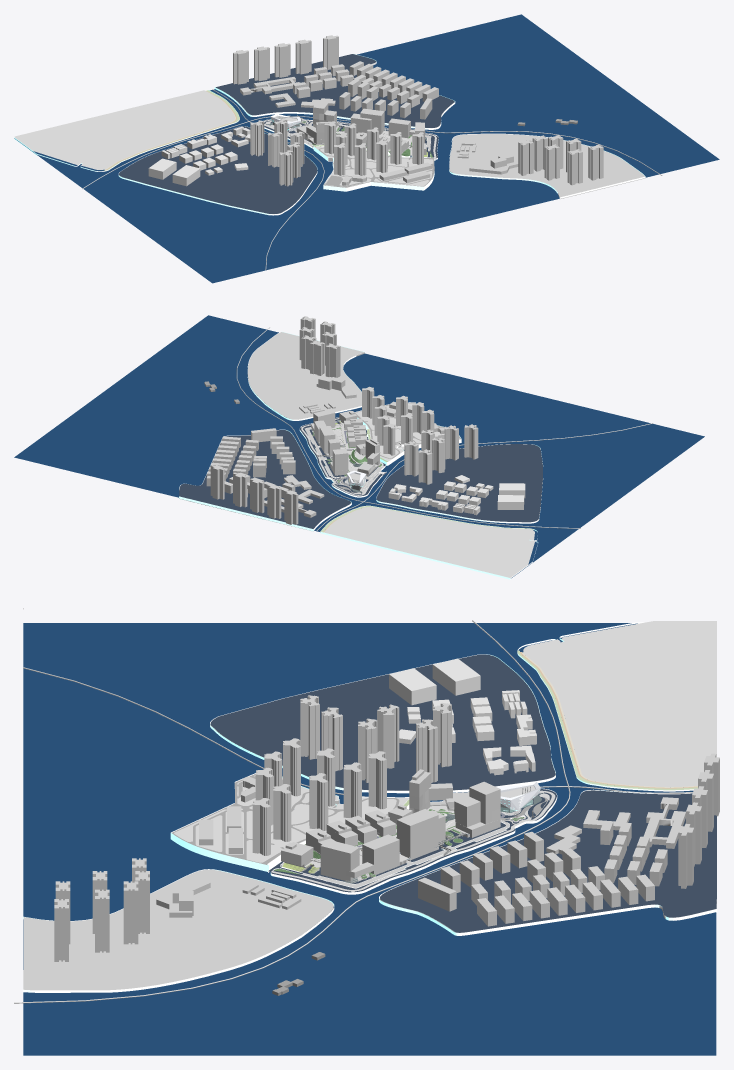
3 renders of one model, top to bottom at view 1: azimuth 30°, elevation 25°; view 2: azimuth 150°, elevation 25°; view 3: azimuth 270°, elevation 25°, orthographic. The views are drawn at different scales.
Visible parts, largest first — view 1: ground, building-outside, reflect-plane-5.001, reflect-plane-3, reflect-plane-4, reflect-plane-1, building-inside, Group9, Group2, road-light, light-border.004, light-border.005 (+2 smaller); view 2: ground, building-outside, reflect-plane-5.001, reflect-plane-3, reflect-plane-4, reflect-plane-1, building-inside, Group9, light-border.001, reflect-plane, Group2, light-border.003 (+1 smaller); view 3: ground, building-outside, reflect-plane-5.001, reflect-plane-4, reflect-plane-3, reflect-plane-1, building-inside, Group9, reflect-plane, Group2, light-border.003, road-light (+6 smaller).
Part boxes in pixels (x1=…): ground: x1=14, y1=14, x2=719, y2=283; building-outside: x1=148, y1=35, x2=603, y2=186; reflect-plane-5.001: x1=14, y1=90, x2=234, y2=169; reflect-plane-3: x1=119, y1=126, x2=317, y2=213; reflect-plane-4: x1=449, y1=134, x2=644, y2=197; reflect-plane-1: x1=216, y1=54, x2=454, y2=127; building-inside: x1=296, y1=101, x2=426, y2=154; Group9: x1=313, y1=145, x2=434, y2=187; Group2: x1=15, y1=90, x2=239, y2=170; road-light: x1=82, y1=115, x2=662, y2=189; light-border.004: x1=313, y1=145, x2=434, y2=191; light-border.005: x1=449, y1=133, x2=645, y2=198; ground: x1=14, y1=315, x2=704, y2=578; building-outside: x1=206, y1=316, x2=525, y2=524; reflect-plane-5.001: x1=325, y1=507, x2=534, y2=577; reflect-plane-3: x1=376, y1=444, x2=542, y2=522; reflect-plane-4: x1=247, y1=332, x2=364, y2=419; reflect-plane-1: x1=179, y1=430, x2=351, y2=528; building-inside: x1=311, y1=409, x2=380, y2=476; Group9: x1=355, y1=402, x2=460, y2=461; light-border.001: x1=320, y1=505, x2=538, y2=579; reflect-plane: x1=299, y1=417, x2=385, y2=496; Group2: x1=321, y1=506, x2=534, y2=577; light-border.003: x1=179, y1=429, x2=351, y2=531; ground: x1=23, y1=623, x2=716, y2=1055; building-outside: x1=54, y1=658, x2=719, y2=961; reflect-plane-5.001: x1=523, y1=621, x2=716, y2=785; reflect-plane-4: x1=23, y1=869, x2=333, y2=990; reflect-plane-3: x1=210, y1=654, x2=555, y2=790; reflect-plane-1: x1=380, y1=790, x2=716, y2=932; building-inside: x1=281, y1=769, x2=500, y2=881; Group9: x1=172, y1=774, x2=409, y2=864; reflect-plane: x1=268, y1=789, x2=556, y2=892; Group2: x1=517, y1=639, x2=697, y2=790; light-border.003: x1=379, y1=789, x2=717, y2=935; road-light: x1=14, y1=620, x2=570, y2=1003.
Size of the model in its own units: 15.76 by 0.9967 by 10.56.
